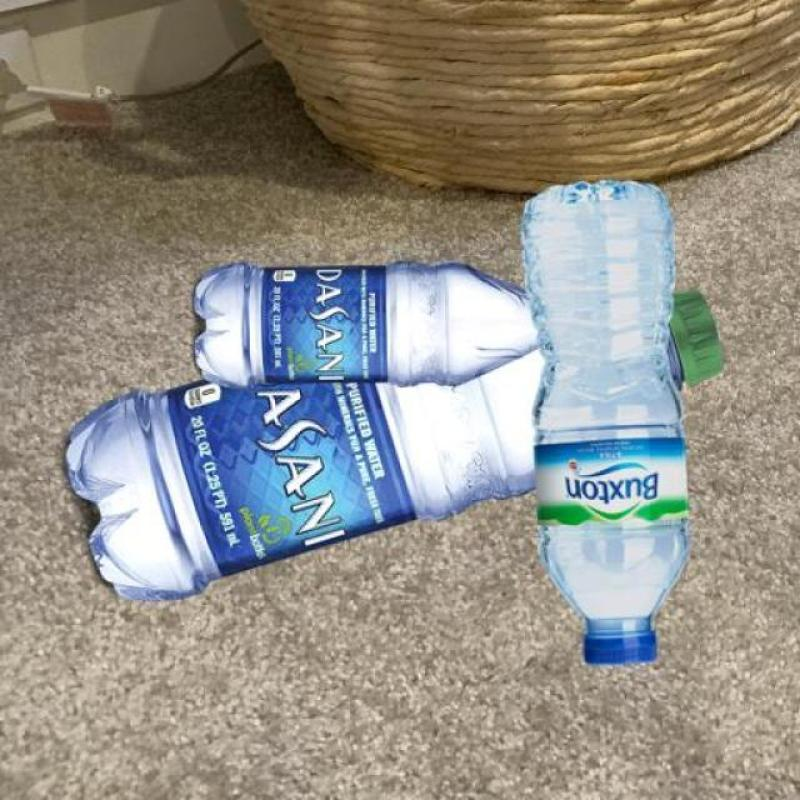botella: (66, 290, 729, 600), (521, 183, 693, 665), (188, 263, 538, 388)
